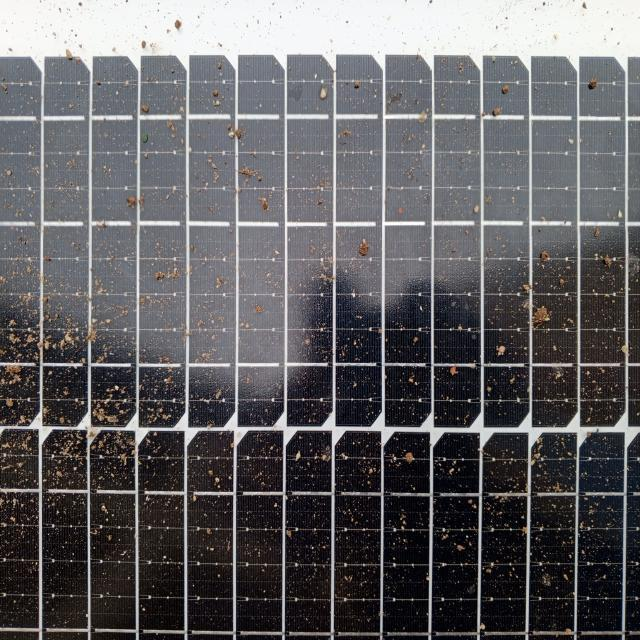Surface Contaminant: (0, 20, 639, 629)
